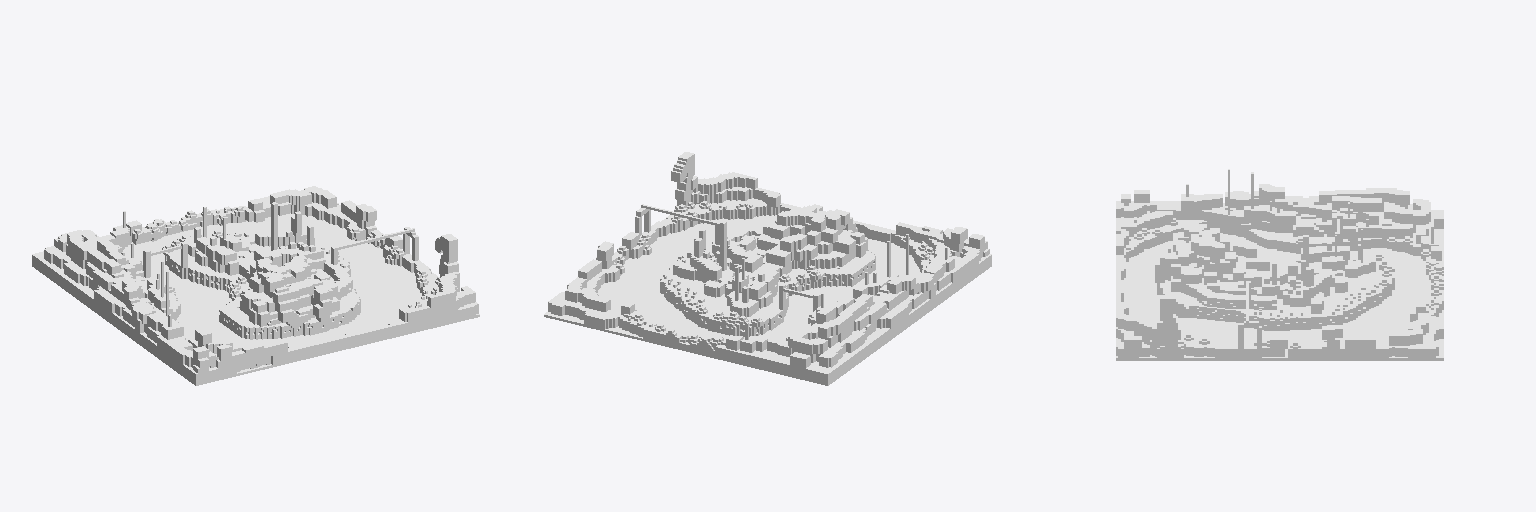
Rendered from desert-track.obj.
3 views of the same model, side by side, from view 1: azimuth 30°, elevation 25°; view 2: azimuth 150°, elevation 25°; view 3: azimuth 270°, elevation 25° (orthographic).
Parts seen in each view (by area): view 1: desert-track; view 2: desert-track; view 3: desert-track.
Boxes of the visible parts, box(x1,y1,x2,y2) form: desert-track: box(32, 186, 479, 385); desert-track: box(544, 152, 991, 385); desert-track: box(1116, 169, 1443, 360).
Size of the model in its own units: 126 by 30 by 126.